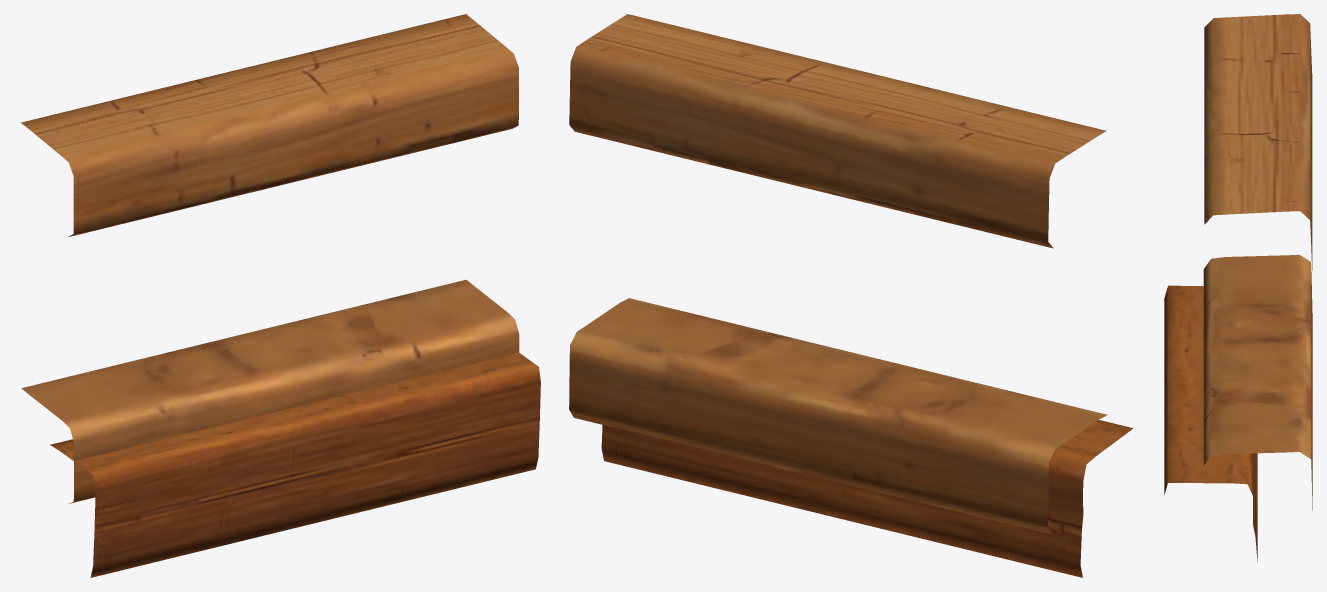
The model's file is rail_sweep.glb.
The picture shows the model from 3 angles, left to right: view 1: azimuth 30°, elevation 25°; view 2: azimuth 150°, elevation 25°; view 3: azimuth 270°, elevation 25°; orthographic projection. The views are drawn at different scales.
Visible parts, largest first — view 1: handrail, wale, base; view 2: base, handrail, wale; view 3: base, handrail, wale.
Part boxes in pixels (bbox=[...]): handrail: bbox=[21, 14, 518, 237]; wale: bbox=[50, 353, 540, 577]; base: bbox=[21, 279, 519, 503]; base: bbox=[569, 298, 1107, 534]; handrail: bbox=[569, 14, 1106, 248]; wale: bbox=[601, 420, 1132, 577]; base: bbox=[1203, 254, 1312, 509]; handrail: bbox=[1204, 14, 1312, 270]; wale: bbox=[1164, 285, 1257, 561].
Size of the model in its own units: 1 by 0.8674 by 0.3175.
Materials: 3 (3 with a texture image).
